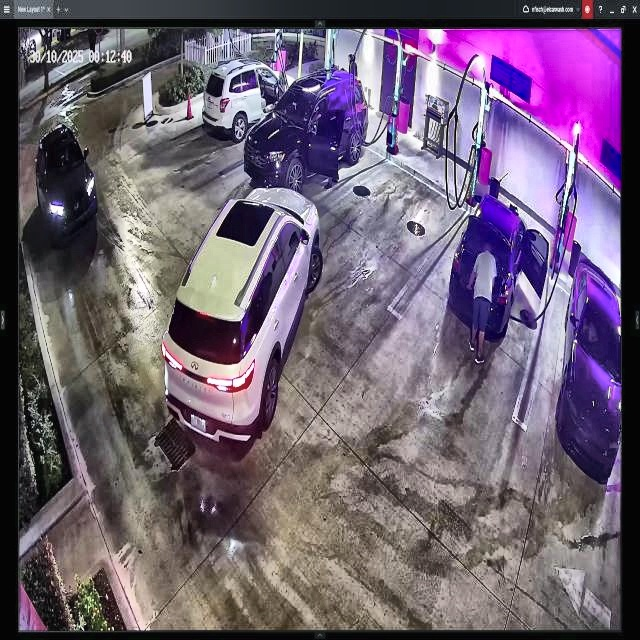Car: (164, 192, 320, 440), (246, 63, 365, 191), (453, 193, 548, 340)
